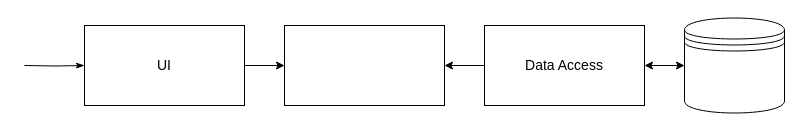
The diagram is 802 pixels wide and 130 high, and some of its shapes have lost their labels. Each missing label, with the centre of its shape:
Business Logic: the point at 364,65
DataBase: the point at 734,65
